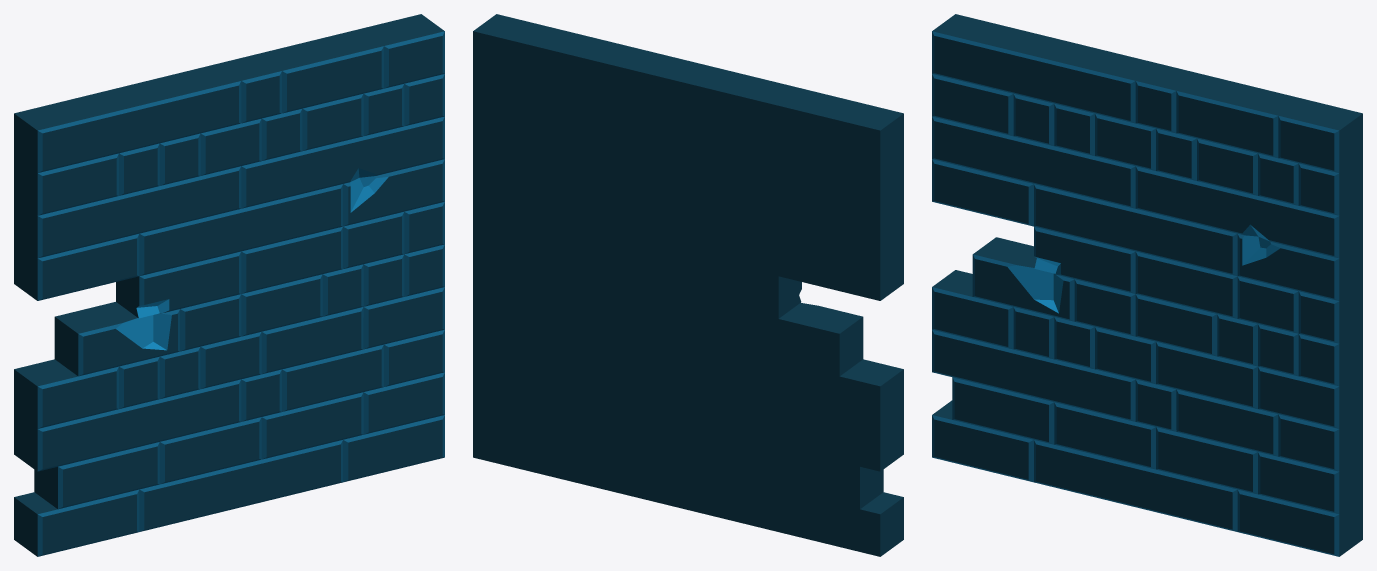
Rendered from wall_type_02.fbx.
3 views of the same model, side by side, from view 1: azimuth 30°, elevation 25°; view 2: azimuth 150°, elevation 25°; view 3: azimuth 330°, elevation 25° (orthographic).
Parts seen in each view (by area): view 1: wall_type_02; view 2: wall_type_02; view 3: wall_type_02.
Part boxes in pixels (left/top/right/bottom): wall_type_02: left=14, top=14, right=444, bottom=556; wall_type_02: left=473, top=14, right=903, bottom=556; wall_type_02: left=932, top=14, right=1362, bottom=556.
Bounding box in the file's own units: 200 × 200 × 21.2.
